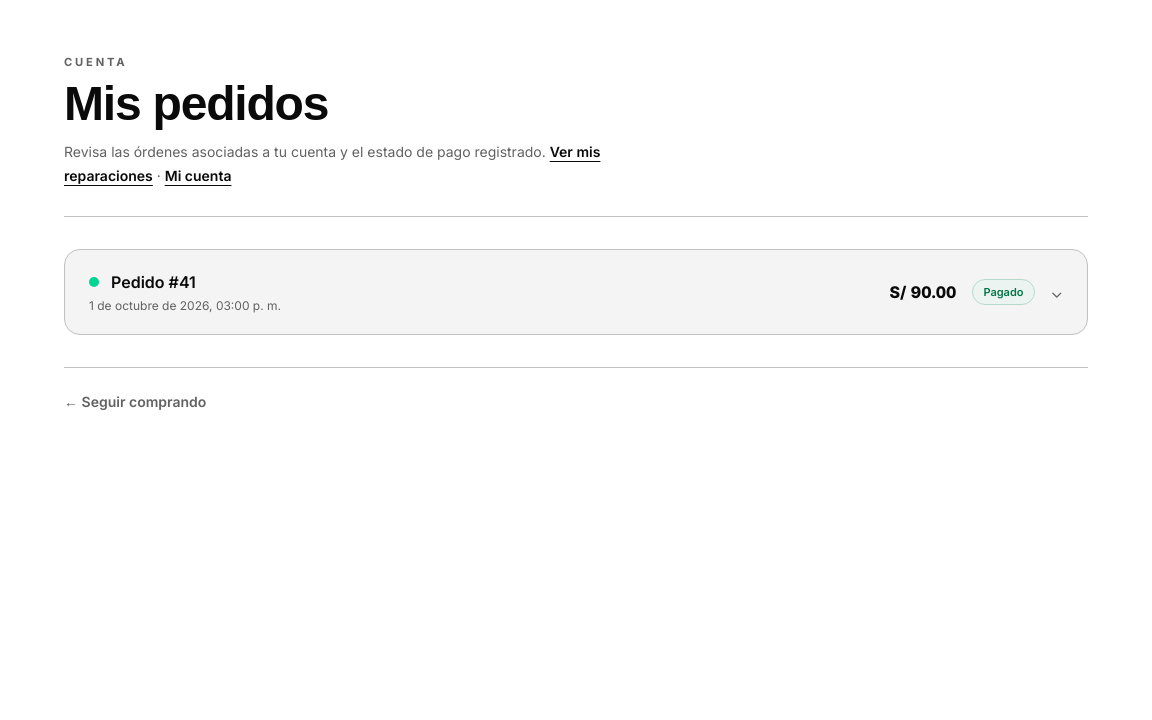
it: la línea de un producto que ya no se vende › conserva su nombre, su cantidad y lo que se pagó, y no enlaza a ninguna ficha
This screenshot has width=1152, height=720.
Step 1. Click the button "Pedido #41" → (145, 282), box [65, 250, 1087, 334]
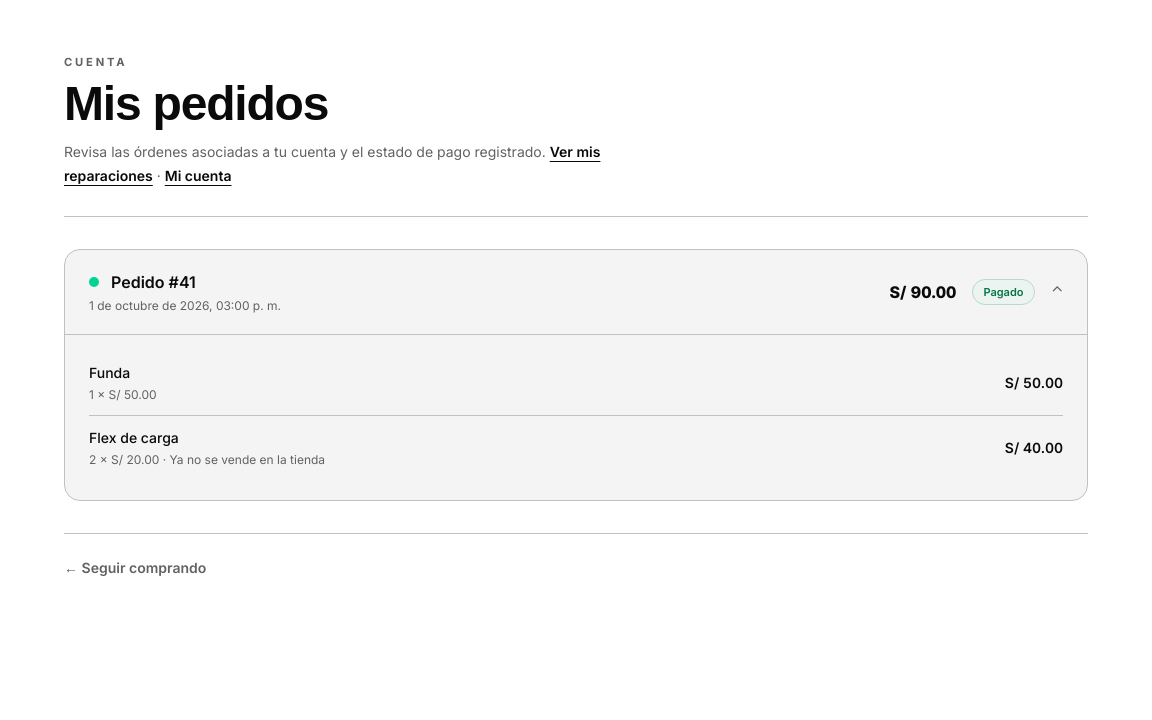
Expected: the text "Flex de carga" shows "2 × S/ 20.00", [89, 429, 1063, 467]
Expected: the text "Flex de carga" shows "S/ 40.00", [89, 429, 1063, 467]
Expected: the text "Flex de carga" shows "Ya no se vende en la tienda", [159, 452, 325, 467]
